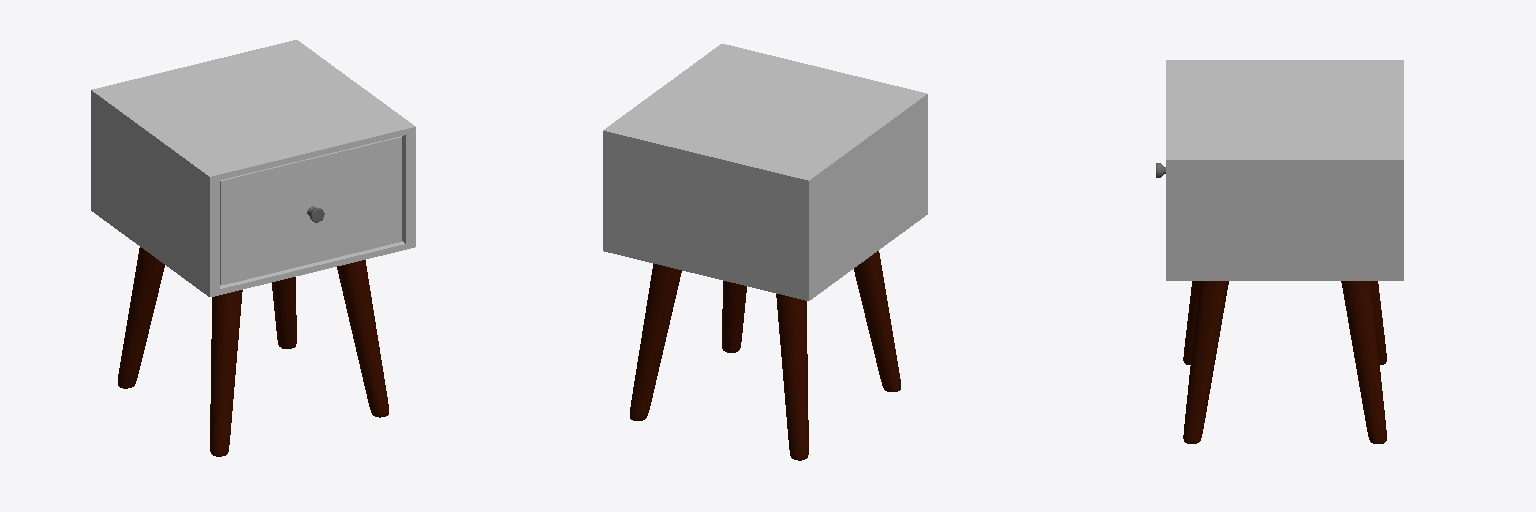
File: kastje.obj
3 views of the same model, side by side, from view 1: azimuth 30°, elevation 25°; view 2: azimuth 150°, elevation 25°; view 3: azimuth 270°, elevation 25° (orthographic).
Parts seen in each view (by area): view 1: Cube_Cube.001, Cube.002_Cube, Cube.001_Cube.002; view 2: Cube_Cube.001, Cube.001_Cube.002; view 3: Cube_Cube.001, Cube.001_Cube.002.
Boxes of the visible parts, x1=… form: Cube_Cube.001: x1=91, y1=40, x2=415, y2=296; Cube.002_Cube: x1=220, y1=136, x2=401, y2=285; Cube.001_Cube.002: x1=118, y1=247, x2=388, y2=456; Cube_Cube.001: x1=603, y1=44, x2=927, y2=300; Cube.001_Cube.002: x1=630, y1=251, x2=900, y2=460; Cube_Cube.001: x1=1166, y1=60, x2=1403, y2=280; Cube.001_Cube.002: x1=1183, y1=281, x2=1386, y2=443.
Bounding box in the file's own units: 0.3785 × 0.5117 × 0.395.